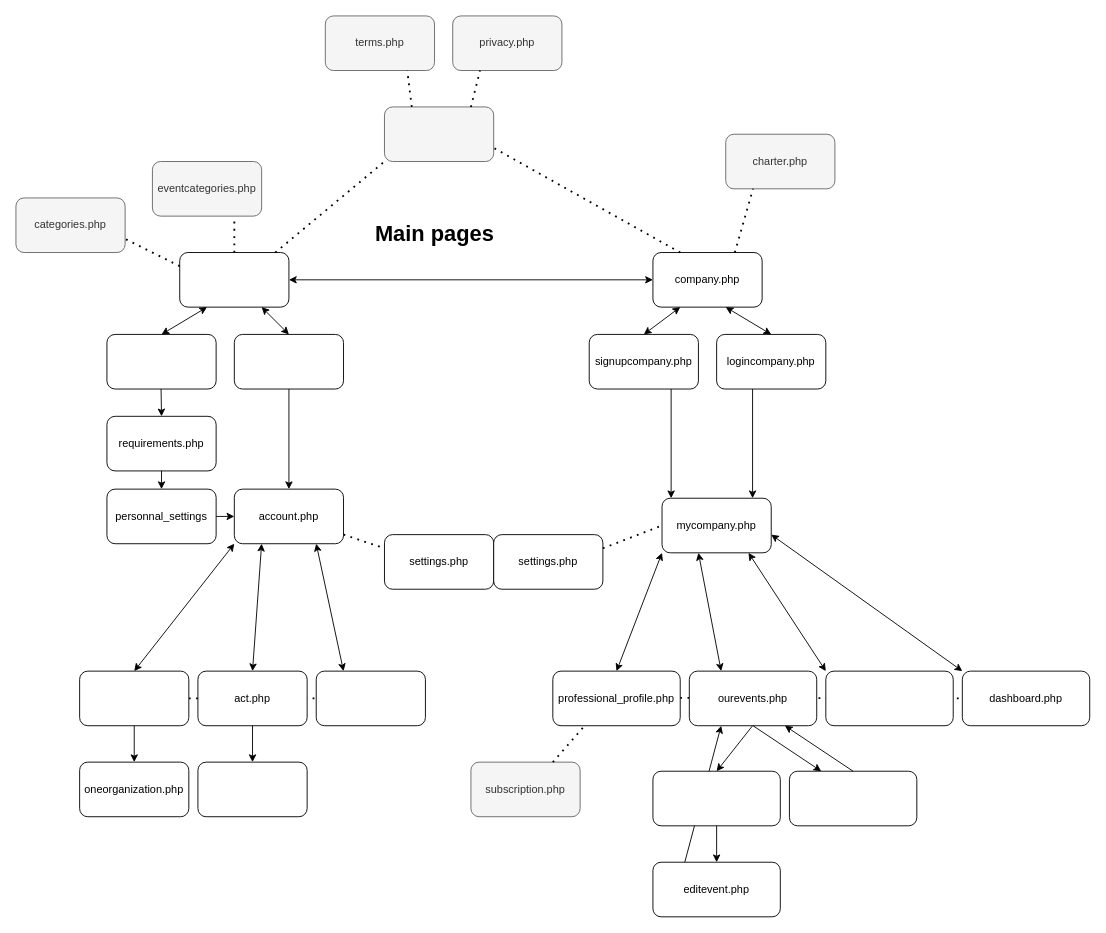
This 1106x933 diagram has some shape labels left out. The box of each missing label's shape, as (x1, y1, x2, y2) in pixels:
addevent.php: (789, 770, 917, 826)
companypage.php: (825, 670, 953, 726)
consume.php: (79, 670, 189, 726)
event.php: (197, 761, 307, 817)
index.html: (179, 252, 289, 307)
legal.php: (384, 106, 494, 162)
login.php: (233, 334, 344, 389)
personnal_profile.php: (315, 670, 425, 726)
scheduledevent.php: (652, 770, 780, 826)
signup.php: (106, 334, 216, 389)
